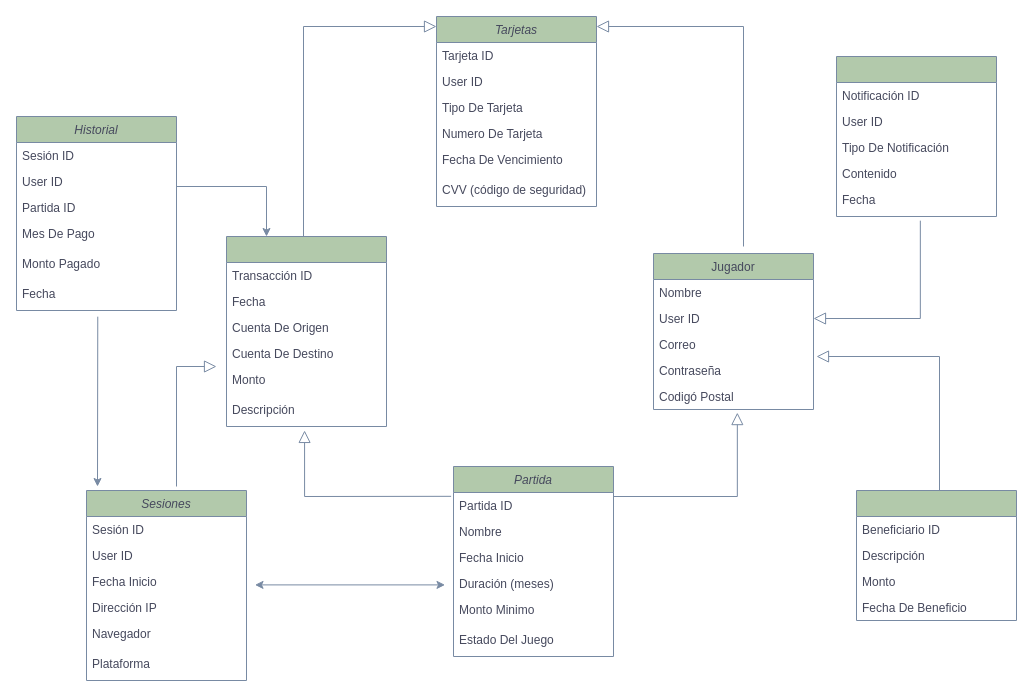
Some shapes in this 1033 by 697 pixel diagram are drawn without their labels. Here are the shapes that lost their labels. From the top down, the box of each, then its label:
(836, 56, 996, 216): Notificaciones
(226, 236, 386, 426): Transacciones
(856, 490, 1016, 620): Beneficiarios
